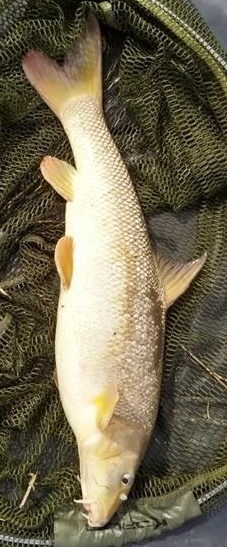Barbus barbus: (20, 20, 207, 527)
